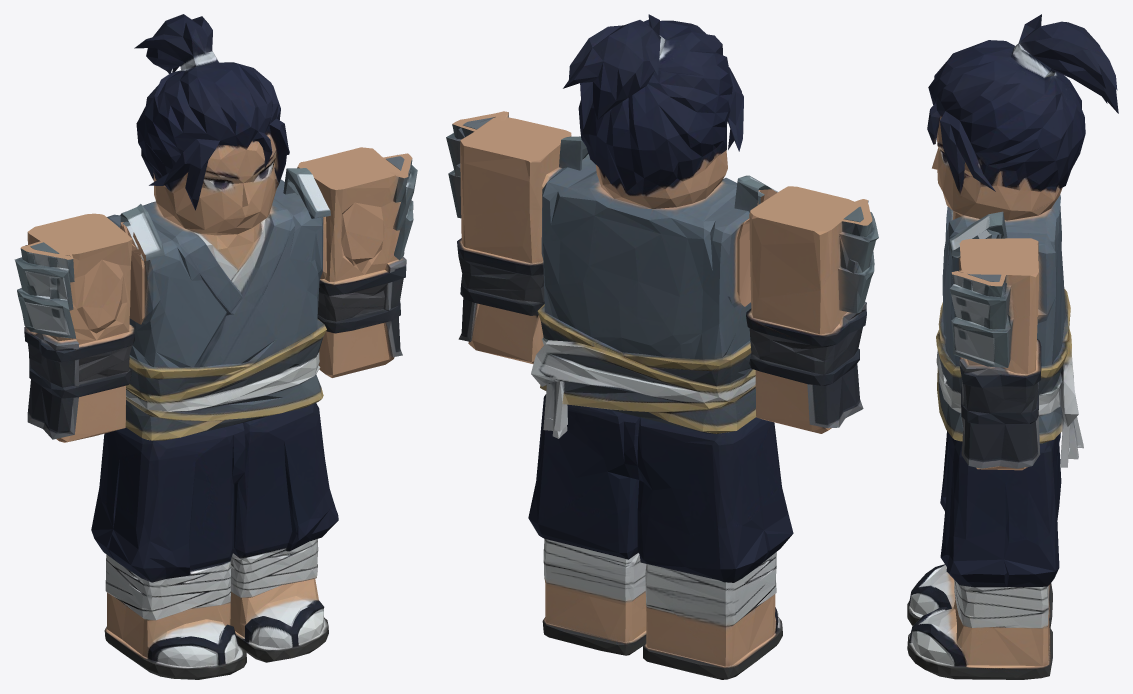
The model's file is Tora_R6_Auto.fbx.
3 renders of one model, left to right at view 1: azimuth 30°, elevation 25°; view 2: azimuth 150°, elevation 25°; view 3: azimuth 270°, elevation 25°, orthographic. The views are drawn at different scales.
Visible parts, largest first — view 1: Torso, RightLeg, Head, RightArm, LeftLeg, LeftArm; view 2: Torso, RightLeg, RightArm, Head, LeftLeg, LeftArm; view 3: Head, LeftLeg, LeftArm, Torso, RightLeg.
Boxes of the visible parts, left/top/right/bottom form: Torso: left=107, top=179, right=330, bottom=457; RightLeg: left=91, top=432, right=246, bottom=679; Head: left=120, top=14, right=317, bottom=231; RightArm: left=14, top=213, right=134, bottom=442; LeftLeg: left=230, top=414, right=338, bottom=662; LeftArm: left=297, top=147, right=417, bottom=377; Torso: left=531, top=148, right=777, bottom=453; RightLeg: left=629, top=422, right=793, bottom=679; RightArm: left=746, top=186, right=878, bottom=433; Head: left=560, top=14, right=771, bottom=200; LeftLeg: left=528, top=405, right=646, bottom=655; LeftArm: left=446, top=111, right=571, bottom=363; Head: left=927, top=14, right=1118, bottom=235; LeftLeg: left=907, top=433, right=1083, bottom=679; LeftArm: left=949, top=238, right=1041, bottom=470; Torso: left=936, top=193, right=1083, bottom=460; RightLeg: left=907, top=431, right=1061, bottom=627.
Bounding box in the file's own units: 4.09 × 5.94 × 1.84.
Materials: 1 (1 with a texture image).
